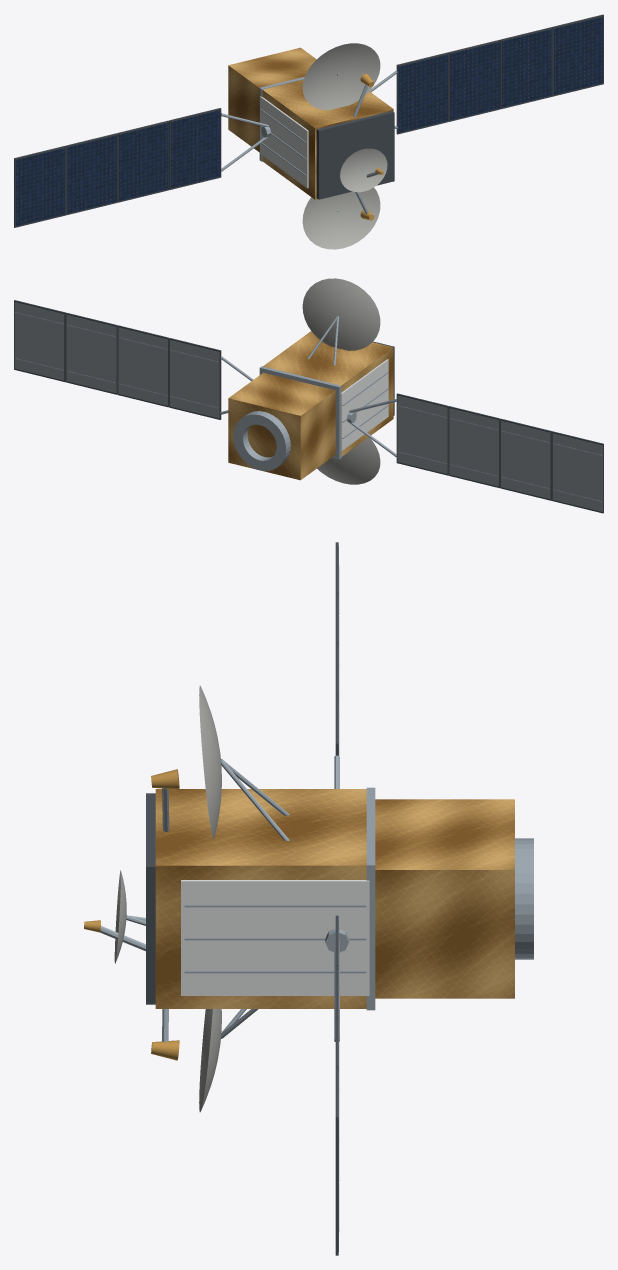
Rendered from ref-ekspress-1000n-45985.glb.
3 views of the same model, one above another, from view 1: azimuth 30°, elevation 25°; view 2: azimuth 150°, elevation 25°; view 3: azimuth 270°, elevation 25° (orthographic). The views are drawn at different scales.
Parts seen in each view (by area): view 1: Solar cell panel (×8), Communications reflector (×2), Earth-facing deck, Service module, Solar panel frame (×8), Payload module, Radiator face, Deck-mounted reflector; view 2: Rear array substrate (×8), Service module, Communications reflector (×2), Payload module, Solar panel frame (×8), Radiator face, Launch adapter ring, Module interface; view 3: Service module, Payload module, Radiator face, Communications reflector (×2), Launch adapter ring, Earth-facing deck, Module interface.
Boxes of the visible parts, left/top/right/bottom form: Solar cell panel (×8): left=15, top=16, right=603, bottom=226; Communications reflector (×2): left=302, top=43, right=380, bottom=249; Earth-facing deck: left=316, top=111, right=394, bottom=199; Service module: left=228, top=47, right=316, bottom=152; Solar panel frame (×8): left=14, top=14, right=603, bottom=227; Payload module: left=262, top=79, right=393, bottom=199; Radiator face: left=260, top=96, right=308, bottom=188; Deck-mounted reflector: left=340, top=148, right=387, bottom=192; Rear array substrate (×8): left=14, top=302, right=602, bottom=511; Service module: left=228, top=372, right=335, bottom=480; Communications reflector (×2): left=302, top=278, right=380, bottom=484; Payload module: left=263, top=331, right=393, bottom=456; Solar panel frame (×8): left=14, top=300, right=603, bottom=513; Radiator face: left=340, top=359, right=388, bottom=451; Launch adapter ring: left=233, top=411, right=290, bottom=470; Module interface: left=259, top=366, right=341, bottom=459; Service module: left=375, top=799, right=514, bottom=998; Payload module: left=155, top=789, right=366, bottom=1008; Radiator face: left=181, top=880, right=369, bottom=995; Communications reflector (×2): left=199, top=685, right=221, bottom=1112; Launch adapter ring: left=515, top=838, right=533, bottom=959; Earth-facing deck: left=146, top=793, right=155, bottom=1004; Module interface: left=366, top=787, right=375, bottom=1010.
Bounding box in the file's own units: 14.99 × 4.95 × 4.96.
Materials: 8 (2 with a texture image).
